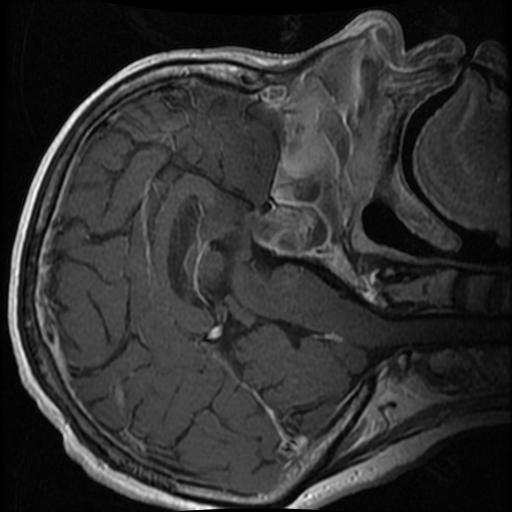pituitary tumour: (250, 208, 319, 255)
